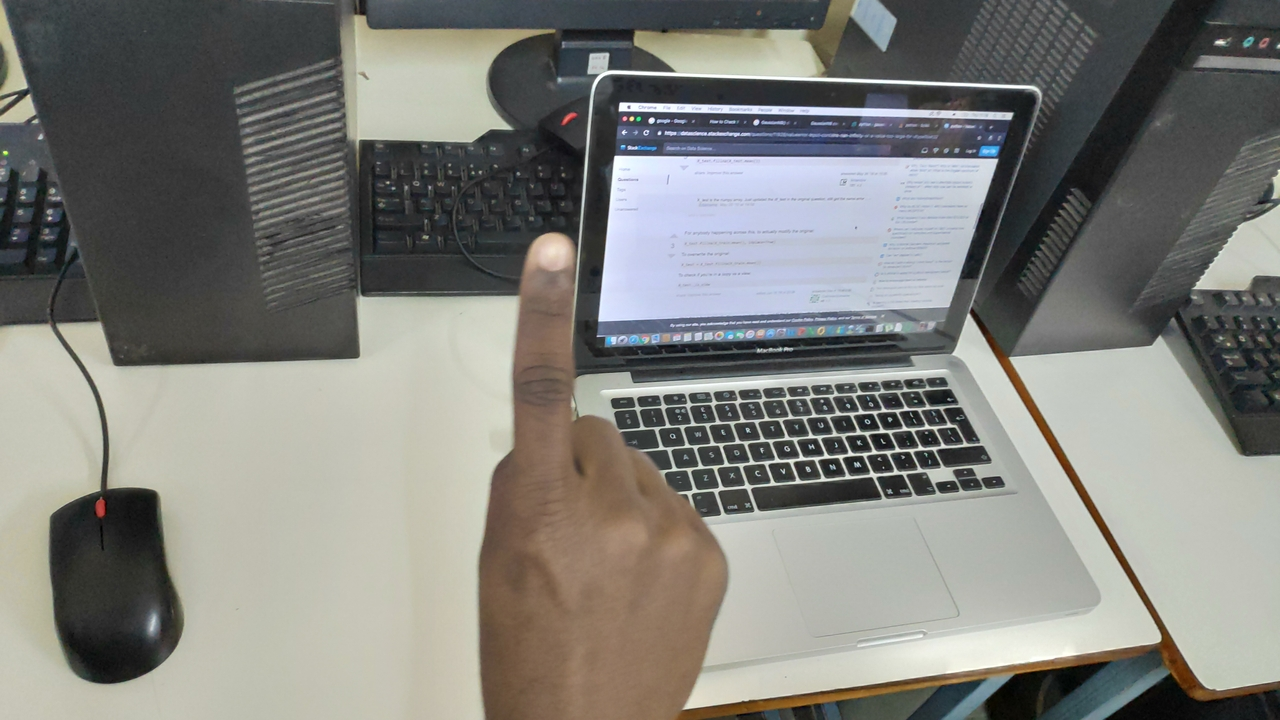fingertip: (514, 226, 578, 290)
